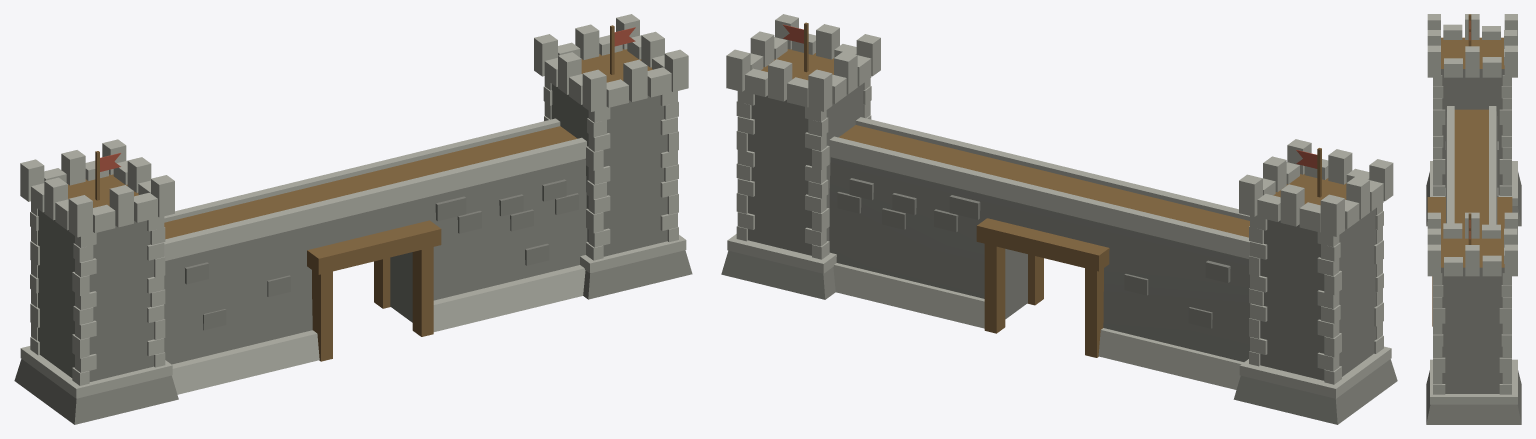
Rendered from pp_wall_towers_door.glb.
The picture shows the model from 3 angles, left to right: view 1: azimuth 30°, elevation 25°; view 2: azimuth 150°, elevation 25°; view 3: azimuth 270°, elevation 25°; orthographic projection. The views are drawn at different scales.
Parts seen in each view (by area): view 1: WallTowers_Door_SecondAge; view 2: WallTowers_Door_SecondAge; view 3: WallTowers_Door_SecondAge.
Boxes of the visible parts, box(x1,y1,x2,y2) form: WallTowers_Door_SecondAge: box(14, 14, 692, 424); WallTowers_Door_SecondAge: box(721, 14, 1397, 424); WallTowers_Door_SecondAge: box(1426, 14, 1521, 424).
Size of the model in its own units: 1.98 by 0.7371 by 0.3333.
